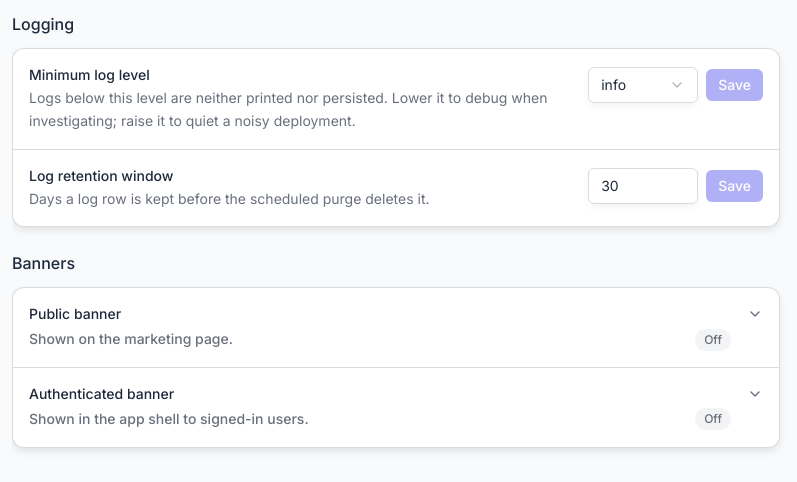
Test: AppSettingsPanel › should group registry entries under their feature-area heading and update saved state after a row save
The width and height of the screenshot is (797, 482).
Expected: the heading "Logging" is shown, x1=12 y1=14 x2=74 y2=34
Expected: the number of headings "Banners" is 1, x1=12 y1=253 x2=75 y2=273
Clear the number field named "Log retention window": (643, 186) x1=588 y1=168 x2=698 y2=204
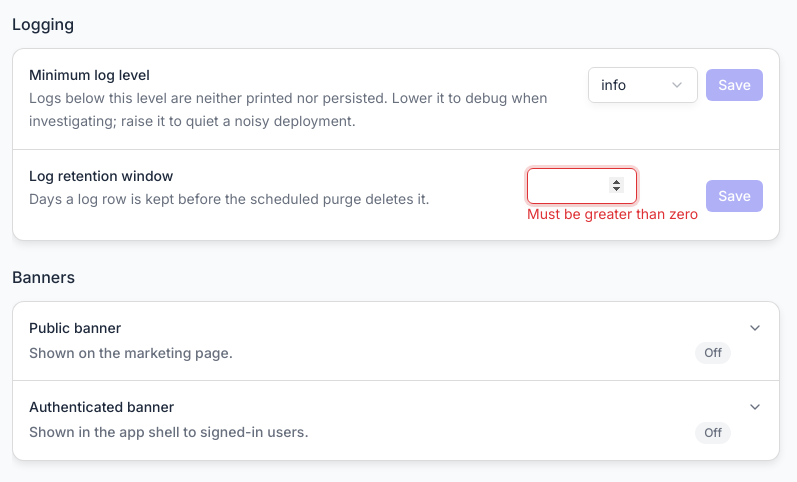
In the number field named "Log retention window": (582, 186) x1=527 y1=168 x2=637 y2=204, type "45"
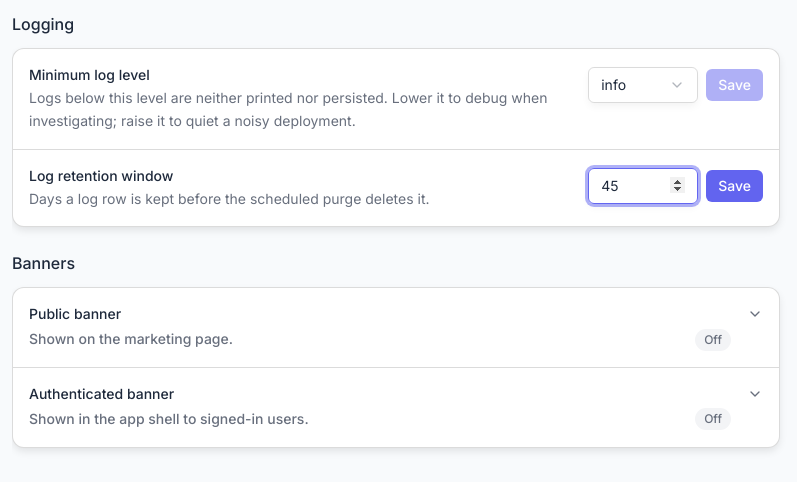
Click the button "Save" in the row of "Log retention window": (735, 186) x1=706 y1=170 x2=763 y2=202
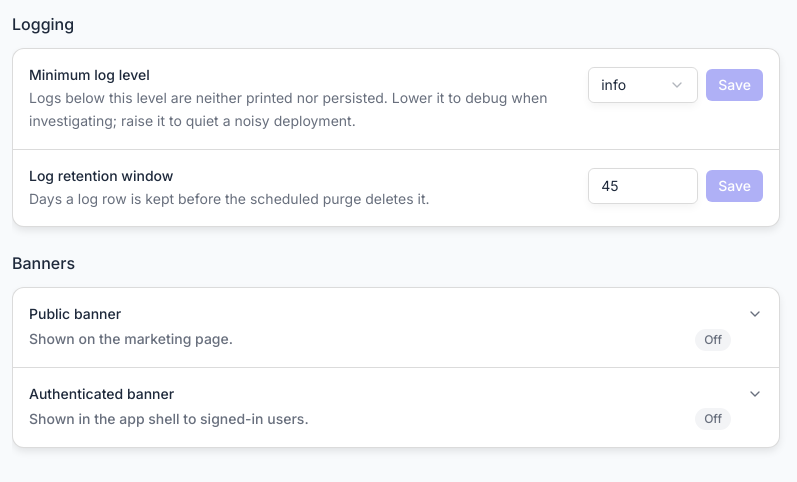
Expected: the button "Save" in the row of "Log retention window" is disabled, x1=706 y1=170 x2=763 y2=202
